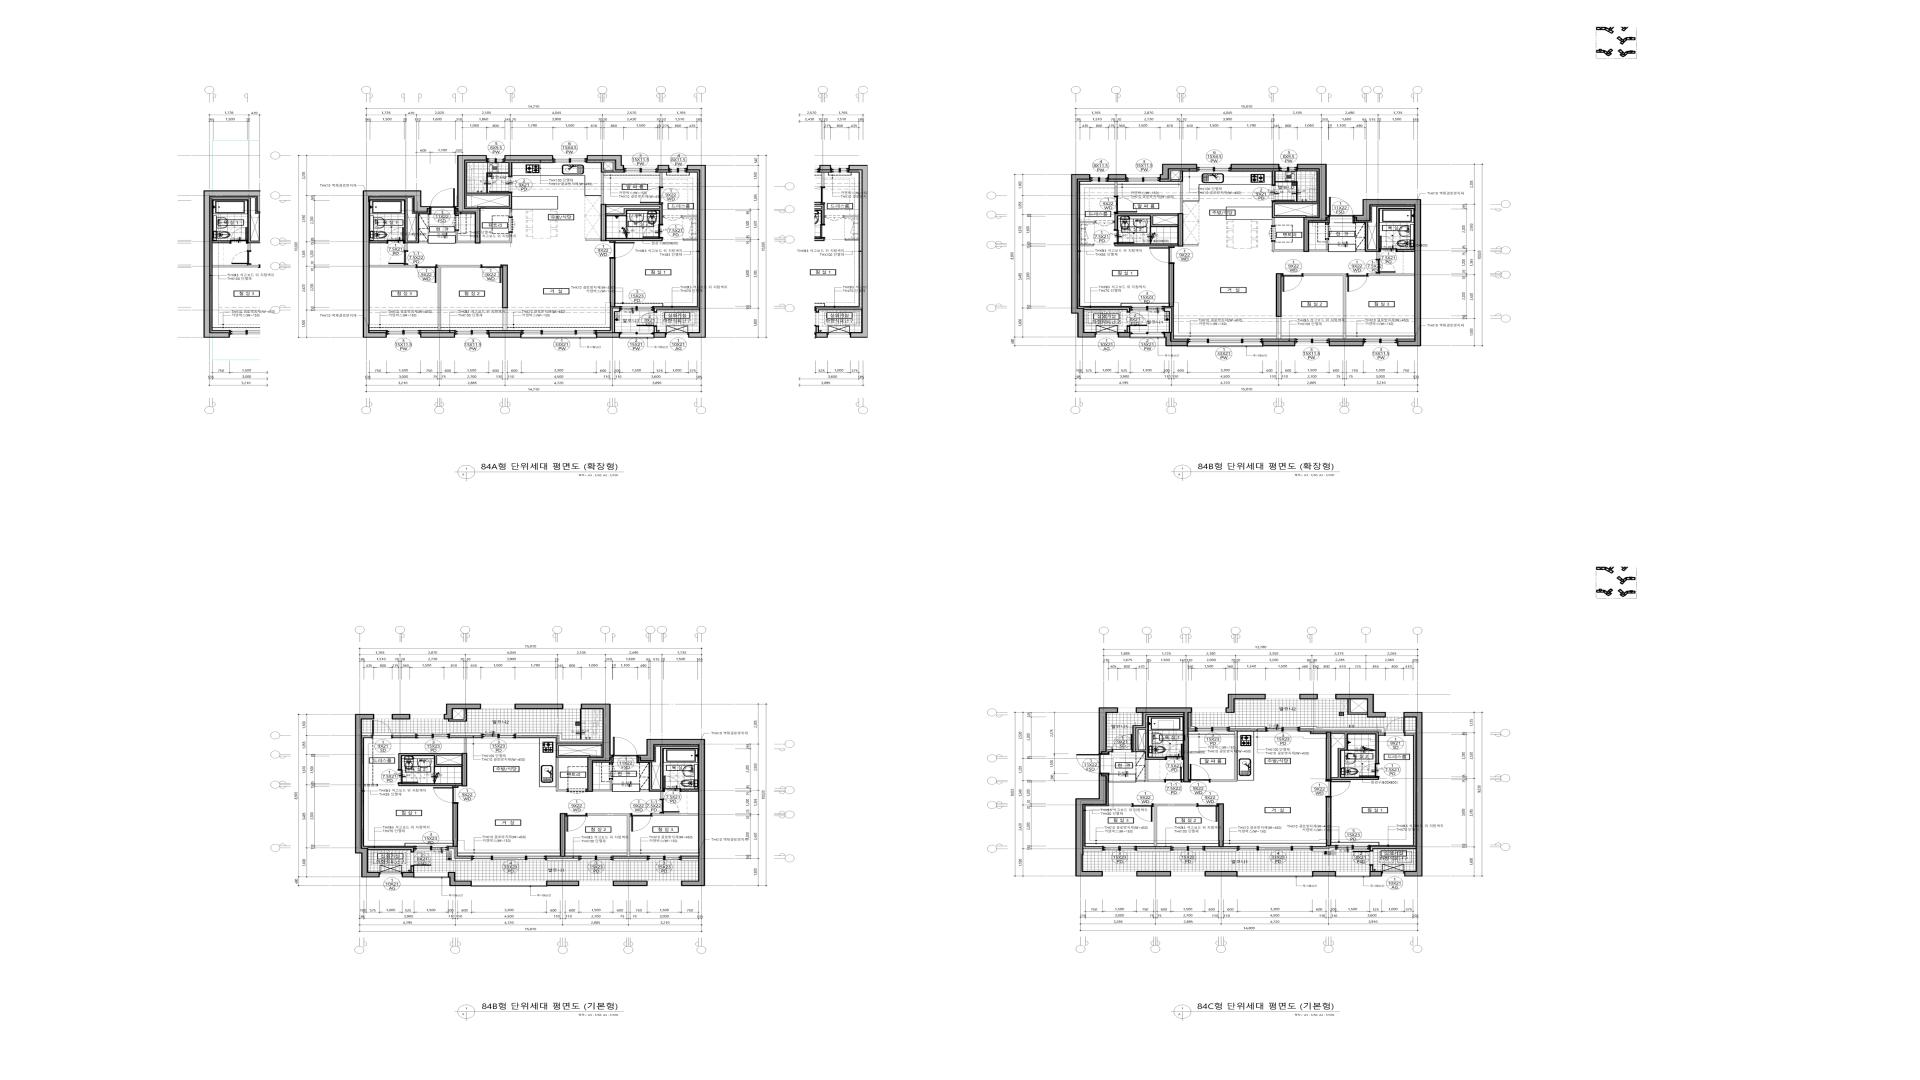door: (430, 189, 455, 215), (1076, 754, 1109, 774), (1329, 196, 1353, 218), (433, 786, 459, 804), (613, 737, 637, 757), (1325, 779, 1350, 798), (415, 264, 438, 284), (1150, 247, 1175, 264), (609, 241, 634, 258), (1271, 185, 1295, 202), (640, 187, 663, 204), (489, 175, 513, 193), (481, 265, 502, 284), (1346, 273, 1367, 291), (1282, 273, 1303, 291), (566, 814, 587, 832), (1112, 735, 1133, 753), (1189, 764, 1211, 782), (630, 814, 651, 832), (372, 720, 393, 738), (1133, 803, 1154, 822), (1197, 803, 1218, 822), (1385, 717, 1406, 736), (1114, 196, 1137, 214), (397, 769, 418, 783), (388, 251, 409, 265), (1126, 311, 1147, 326), (1353, 851, 1374, 865), (386, 227, 404, 244), (663, 775, 680, 793), (1379, 236, 1398, 252), (1164, 766, 1183, 782), (1114, 229, 1134, 244), (1375, 260, 1395, 274), (659, 799, 679, 814), (642, 224, 663, 237), (1166, 744, 1183, 760), (1360, 764, 1379, 777), (1096, 220, 1114, 227), (663, 215, 682, 222), (509, 216, 516, 232), (1269, 225, 1275, 241), (567, 789, 587, 794), (1325, 224, 1332, 239)
wall: (637, 738, 705, 886), (1354, 199, 1422, 347), (363, 190, 430, 338), (1135, 707, 1192, 782), (355, 713, 380, 877), (1071, 174, 1096, 338), (1403, 712, 1423, 877), (1075, 774, 1106, 877), (1135, 715, 1183, 782), (687, 165, 705, 338), (1357, 207, 1415, 260), (369, 198, 427, 251), (580, 704, 613, 793), (1303, 274, 1346, 339), (1298, 164, 1329, 252), (455, 156, 487, 244), (438, 265, 480, 330), (640, 746, 699, 791), (1332, 732, 1379, 779), (555, 744, 601, 791), (587, 814, 630, 856), (1154, 804, 1197, 847), (1211, 731, 1237, 782), (1336, 694, 1386, 717), (607, 204, 663, 224), (1273, 202, 1317, 225), (467, 193, 512, 216), (398, 753, 462, 769), (1114, 214, 1178, 229), (1098, 707, 1118, 754), (1225, 694, 1266, 713), (516, 733, 603, 742), (1160, 164, 1197, 179), (1300, 727, 1385, 733), (443, 704, 481, 719), (587, 156, 624, 170), (1171, 170, 1183, 214), (601, 162, 613, 204), (448, 872, 472, 886), (1164, 332, 1188, 347), (480, 232, 512, 243), (609, 258, 616, 307), (1325, 798, 1332, 847), (1273, 241, 1303, 252), (1325, 732, 1332, 779), (1348, 699, 1367, 715), (559, 814, 566, 857), (1168, 264, 1175, 307), (448, 849, 471, 861), (514, 704, 563, 709), (1230, 164, 1279, 169), (505, 156, 553, 161), (1309, 239, 1328, 252), (600, 204, 607, 241), (654, 307, 699, 313), (455, 231, 475, 243), (1276, 273, 1282, 316), (502, 265, 508, 309), (1218, 803, 1224, 847), (452, 804, 458, 847), (448, 709, 467, 721), (593, 779, 612, 791), (607, 237, 662, 241), (612, 307, 620, 332), (1164, 307, 1172, 332), (368, 848, 414, 852), (1084, 307, 1130, 311), (1370, 847, 1416, 851), (462, 753, 467, 787), (613, 881, 647, 886), (1329, 342, 1364, 347), (421, 332, 455, 338), (1204, 872, 1238, 877), (1137, 872, 1171, 877), (546, 881, 579, 886), (1178, 214, 1183, 247), (1262, 342, 1295, 347), (488, 332, 521, 338), (398, 783, 462, 786), (1114, 244, 1178, 247), (651, 814, 699, 816), (596, 332, 620, 338), (1312, 872, 1336, 877), (392, 713, 410, 720), (369, 265, 415, 268), (1276, 316, 1282, 339), (502, 309, 508, 330), (1108, 174, 1126, 179), (1229, 727, 1266, 729), (1299, 694, 1317, 699), (1137, 849, 1171, 852), (613, 858, 647, 861), (1313, 848, 1336, 852), (450, 733, 481, 736), (1205, 849, 1237, 852), (547, 858, 579, 861), (369, 240, 386, 244), (402, 872, 414, 877), (1367, 274, 1415, 276), (1118, 332, 1130, 338), (654, 332, 666, 338), (1370, 872, 1382, 877), (393, 733, 415, 736), (658, 165, 669, 170), (680, 789, 699, 791), (1084, 849, 1102, 852), (1398, 249, 1415, 252), (682, 858, 698, 861), (1311, 732, 1327, 735), (659, 173, 662, 187), (683, 239, 698, 241), (585, 239, 600, 241), (1273, 170, 1275, 185), (1114, 182, 1117, 196), (509, 162, 512, 175), (1109, 804, 1133, 806), (361, 733, 372, 736), (1406, 731, 1416, 733), (1126, 326, 1130, 332), (410, 866, 414, 872), (682, 216, 698, 218), (661, 791, 663, 799), (1080, 222, 1095, 223), (1080, 245, 1093, 247), (1370, 865, 1373, 872), (654, 327, 657, 332), (1106, 746, 1112, 749), (1191, 727, 1195, 729), (1325, 223, 1329, 224), (609, 762, 612, 764)
window: (521, 330, 596, 339), (472, 881, 546, 887), (1237, 845, 1313, 851), (471, 856, 547, 861), (1188, 339, 1262, 344), (1238, 872, 1312, 877), (1126, 174, 1160, 182), (386, 330, 421, 338), (624, 165, 658, 173), (553, 156, 587, 164), (455, 330, 488, 338), (1364, 339, 1398, 345), (1295, 339, 1329, 345), (1130, 332, 1164, 339), (620, 332, 654, 339), (1197, 165, 1230, 171), (1188, 344, 1262, 347), (579, 856, 613, 861), (647, 856, 682, 861), (1130, 306, 1164, 311), (620, 306, 654, 311), (415, 733, 450, 738), (481, 733, 516, 738), (414, 845, 448, 851), (414, 873, 448, 878), (579, 881, 613, 886), (1195, 727, 1229, 732), (1266, 727, 1300, 732), (1102, 845, 1137, 851), (1171, 845, 1205, 851), (1336, 845, 1370, 851), (1336, 872, 1370, 877), (647, 881, 680, 886), (669, 165, 687, 173), (487, 156, 505, 164), (1091, 174, 1108, 182), (1102, 872, 1137, 876), (410, 715, 443, 719), (481, 704, 514, 708), (1192, 708, 1225, 712), (1266, 695, 1299, 699), (1171, 872, 1204, 876), (1279, 165, 1298, 171), (1096, 332, 1118, 338), (666, 332, 688, 338), (380, 872, 402, 877), (1386, 712, 1403, 717), (1382, 872, 1404, 876), (1317, 695, 1336, 699), (375, 715, 392, 719), (563, 704, 580, 708), (1118, 708, 1135, 712)
